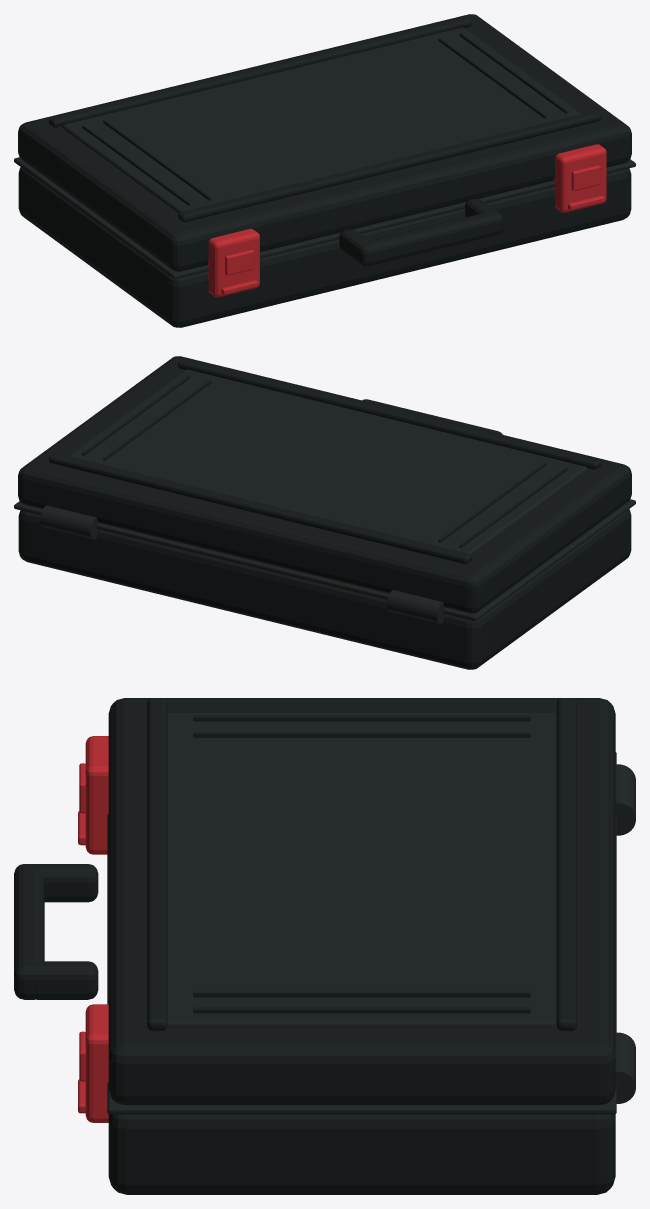
The model's file is lod0_source.glb.
3 renders of one model, top to bottom at view 1: azimuth 30°, elevation 25°; view 2: azimuth 150°, elevation 25°; view 3: azimuth 270°, elevation 25°, orthographic. The views are drawn at different scales.
Parts seen in each view (by area): view 1: Recessed upper lid panel, Black upper lid, Black lower molded shell, Moulded long top bumper, Moulded long top bumper.001, Carry handle crossbar, Black case split line, Bright red clasp.001, Bright red clasp, Clasp inset grip.001, Clasp inset grip, Carry handle root (+4 smaller); view 2: Recessed upper lid panel, Black upper lid, Black lower molded shell, Moulded long top bumper.001, Moulded long top bumper, Black case split line, Rear case hinge, Rear case hinge.001, Top anti-slip shell groove, Top anti-slip shell groove.003, Top anti-slip shell groove.001, Top anti-slip shell groove.002; view 3: Recessed upper lid panel, Black upper lid, Black lower molded shell, Moulded long top bumper.001, Moulded long top bumper, Black case split line, Carry handle crossbar, Bright red clasp.001, Bright red clasp, Carry handle root.001, Top anti-slip shell groove, Top anti-slip shell groove.002 (+5 smaller).
Part boxes in pixels (x1,y1,x2,y2): Recessed upper lid panel: (62, 27, 581, 212); Black upper lid: (18, 14, 631, 271); Black lower molded shell: (18, 167, 631, 327); Moulded long top bumper: (178, 111, 601, 222); Moulded long top bumper.001: (48, 16, 471, 127); Carry handle crossbar: (356, 211, 503, 266); Black case split line: (14, 157, 635, 279); Bright red clasp.001: (554, 144, 606, 212); Bright red clasp: (208, 228, 259, 297); Clasp inset grip.001: (571, 165, 600, 190); Clasp inset grip: (225, 249, 254, 275); Carry handle root: (339, 229, 368, 261); Recessed upper lid panel: (68, 369, 587, 554); Black upper lid: (18, 356, 631, 613); Black lower molded shell: (18, 509, 631, 669); Moulded long top bumper.001: (48, 453, 471, 564); Moulded long top bumper: (178, 358, 601, 469); Black case split line: (14, 499, 635, 621); Rear case hinge: (386, 590, 445, 623); Rear case hinge.001: (40, 505, 98, 539); Top anti-slip shell groove: (459, 467, 567, 547); Top anti-slip shell groove.003: (82, 375, 190, 455); Top anti-slip shell groove.001: (438, 462, 546, 542); Top anti-slip shell groove.002: (103, 380, 211, 460); Recessed upper lid panel: (167, 712, 556, 1027); Black upper lid: (108, 698, 615, 1104); Black lower molded shell: (108, 1114, 615, 1194); Moulded long top bumper.001: (556, 698, 576, 1030); Moulded long top bumper: (147, 698, 167, 1030); Black case split line: (107, 752, 616, 1114); Carry handle crossbar: (14, 864, 44, 999); Bright red clasp.001: (85, 1004, 108, 1122); Bright red clasp: (85, 736, 108, 854); Carry handle root.001: (35, 961, 98, 999); Top anti-slip shell groove: (193, 715, 530, 721); Top anti-slip shell groove.002: (193, 991, 530, 997).
Bounding box in the file's own units: 0.331 × 0.0705 × 0.243.
